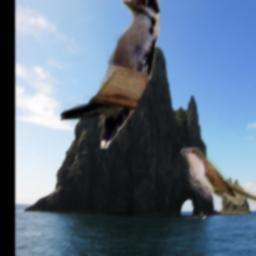Cuckoo: (182, 148, 256, 205)
Woodpecker: (61, 0, 160, 148)
